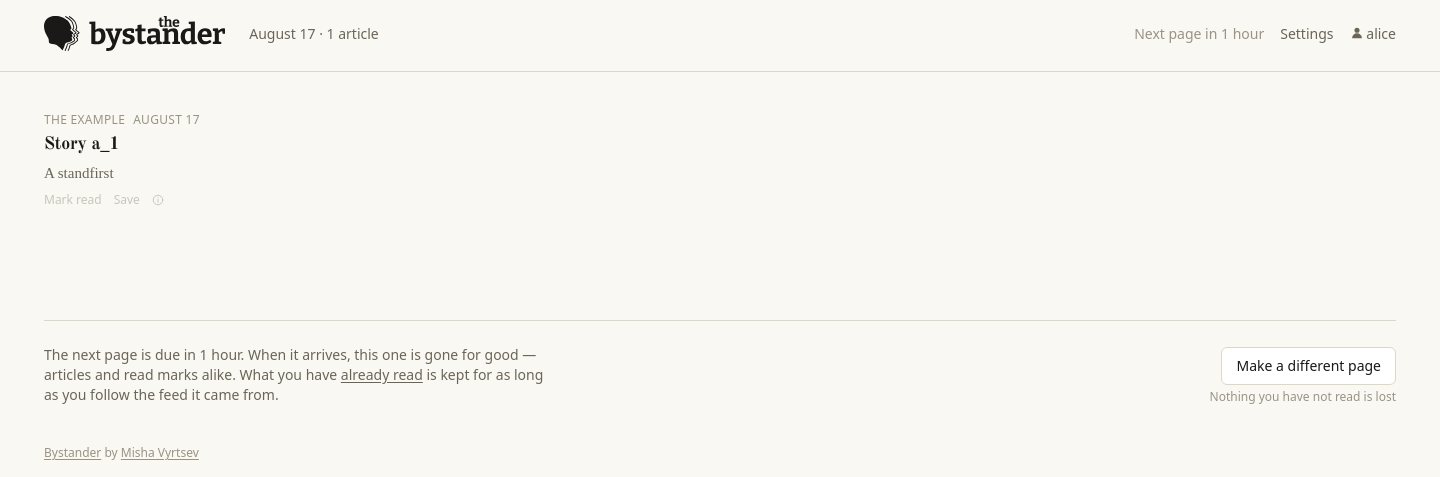
it: ReaderPage › marks an article read without waiting for the server
Check: the link "Story a_1" is shown, box [44,135,120,153]
Step 1. Click the button "Mark read" → (73, 200), box [44,192,102,208]
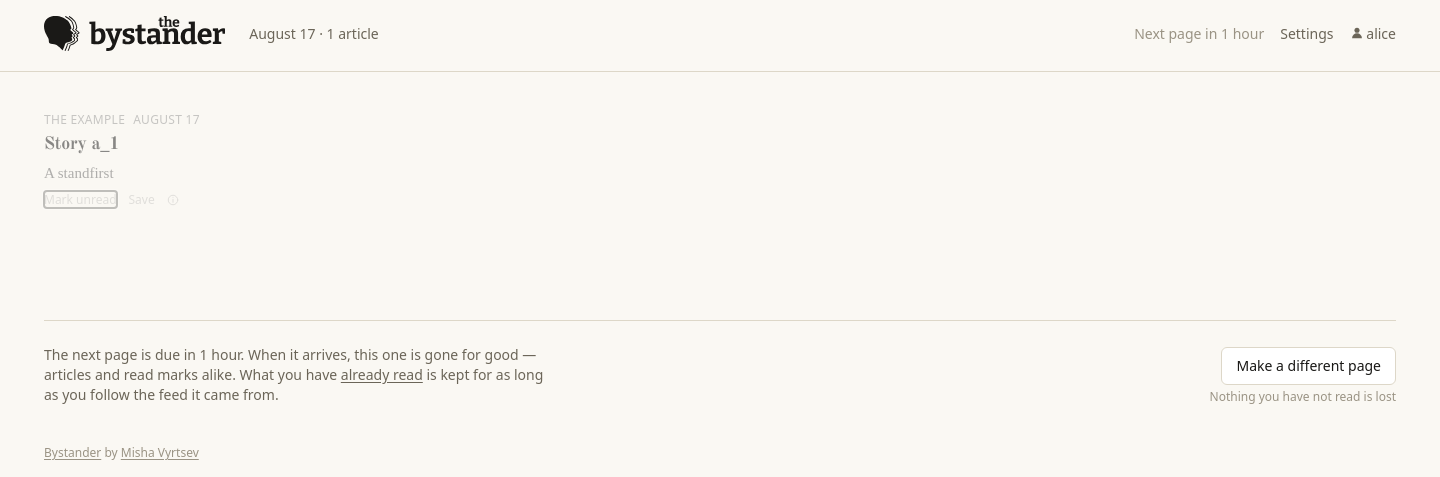
Check: the button "Mark unread" is shown, box [44,192,116,208]
